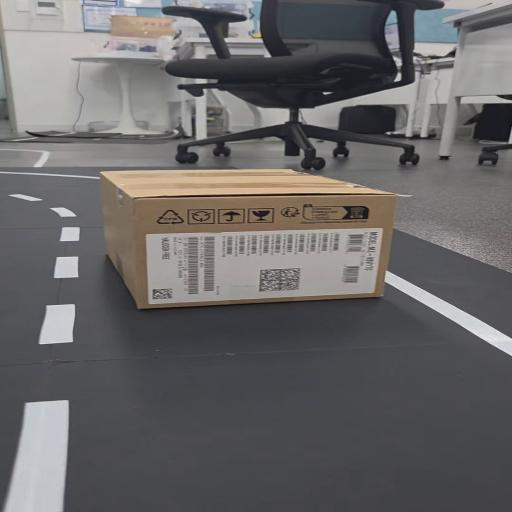Box: (94, 157, 402, 317)
